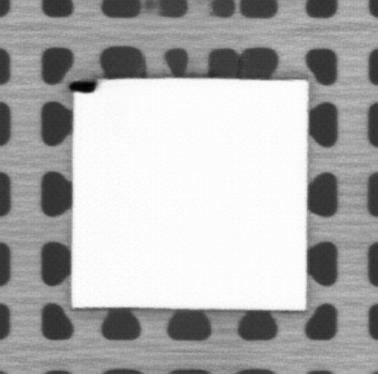DIE_BROKEN: (68, 78, 98, 93)
